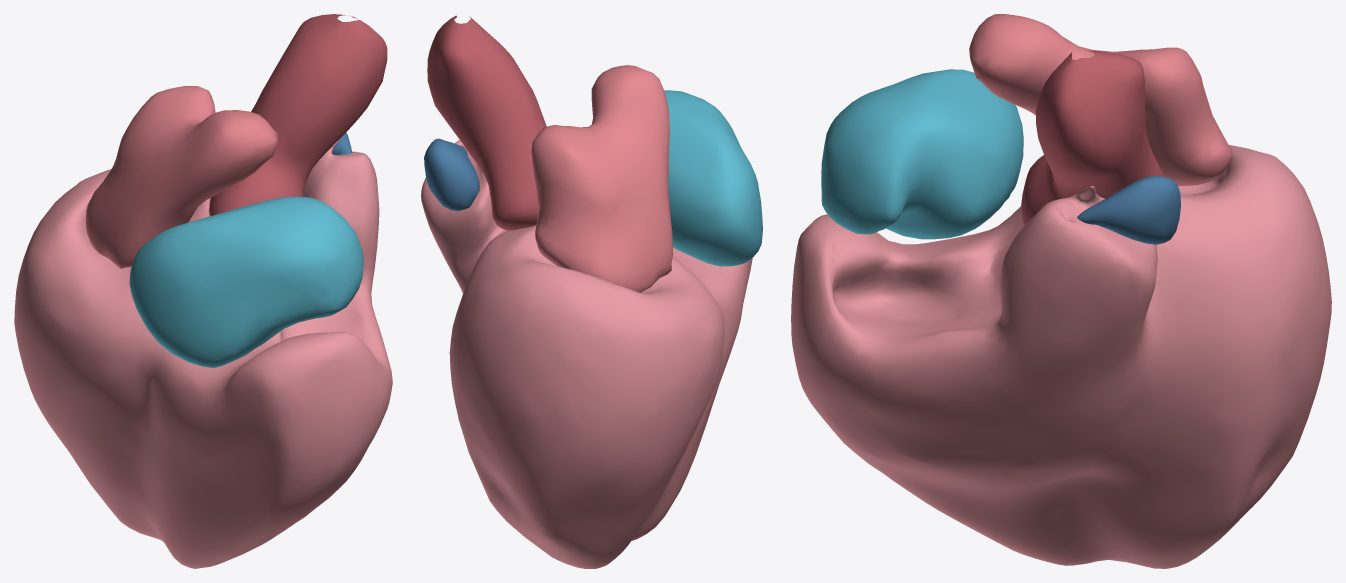
The model's file is frame_23.glb.
3 views of the same model, side by side, from view 1: azimuth 30°, elevation 25°; view 2: azimuth 150°, elevation 25°; view 3: azimuth 270°, elevation 25° (orthographic). The views are drawn at different scales.
Visible parts, largest first — view 1: Renderer Node; view 2: Renderer Node; view 3: Renderer Node.
Part boxes in pixels (box(x1,y1,x2,y2)): Renderer Node: box(14, 14, 392, 568); Renderer Node: box(421, 15, 762, 568); Renderer Node: box(791, 14, 1331, 568).
Bounding box in the file's own units: 106 × 162 × 131.
